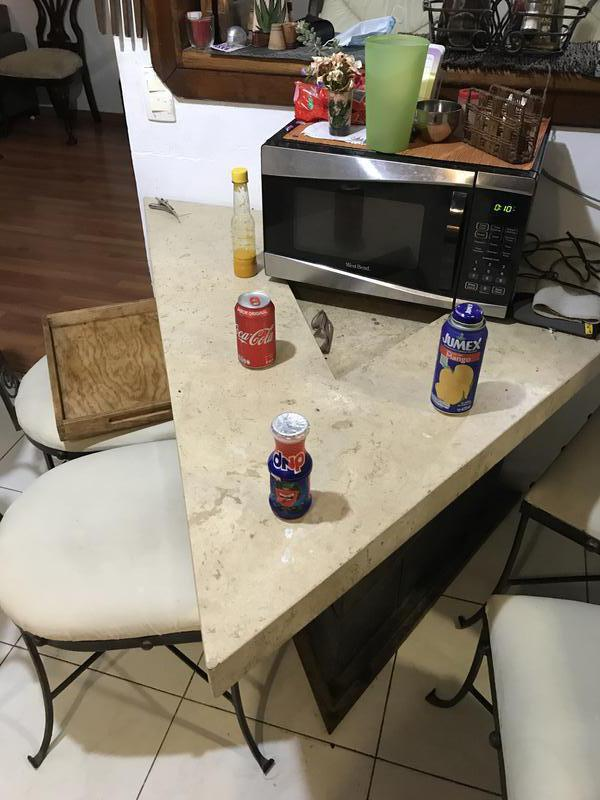coca_cola: (235, 290, 279, 373)
danup: (267, 414, 314, 518)
jugo_jumex: (431, 303, 487, 417)
